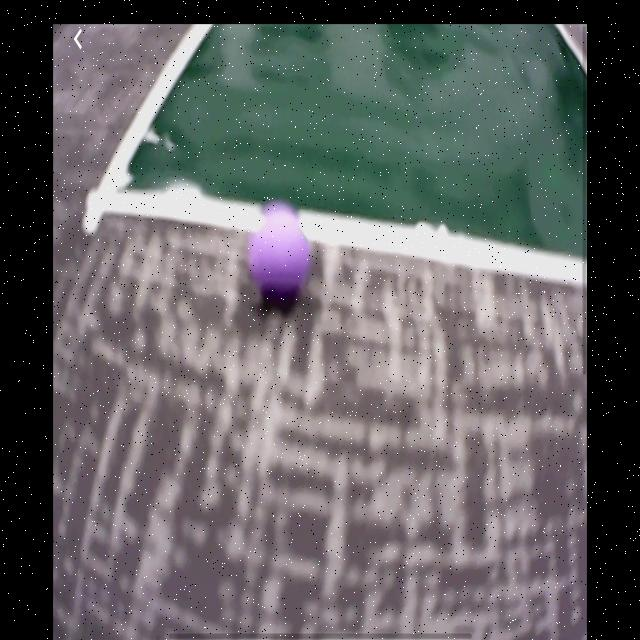ball: (246, 199, 312, 311)
